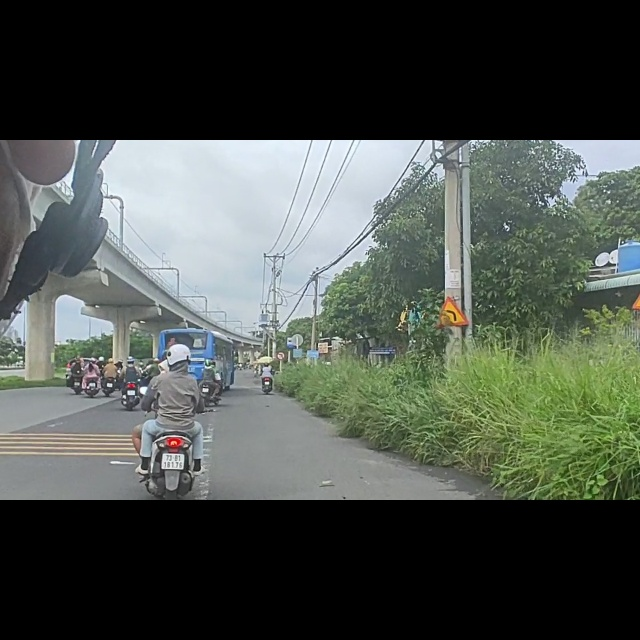bien_nguy_hiem: (433, 277, 471, 331), (287, 350, 297, 370), (276, 373, 287, 390)
